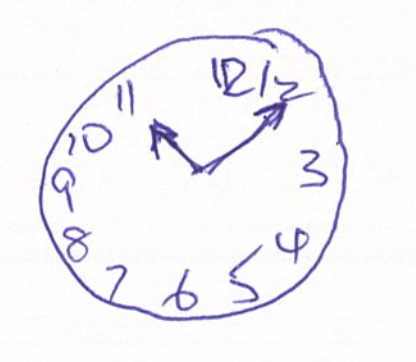1: (256, 56, 274, 101)
10: (66, 120, 114, 159)
11: (115, 78, 137, 117)
12: (207, 54, 255, 97)
2: (273, 76, 316, 101)
3: (294, 146, 329, 190)
4: (272, 224, 310, 266)
5: (225, 241, 264, 307)
6: (163, 267, 199, 313)
7: (104, 262, 129, 306)
8: (61, 222, 93, 266)
9: (49, 163, 77, 216)
contour: (34, 24, 352, 323)
hand: (148, 102, 287, 174)
top_left_arrow: (149, 119, 201, 174)
top_right_arrow: (199, 101, 290, 174)
